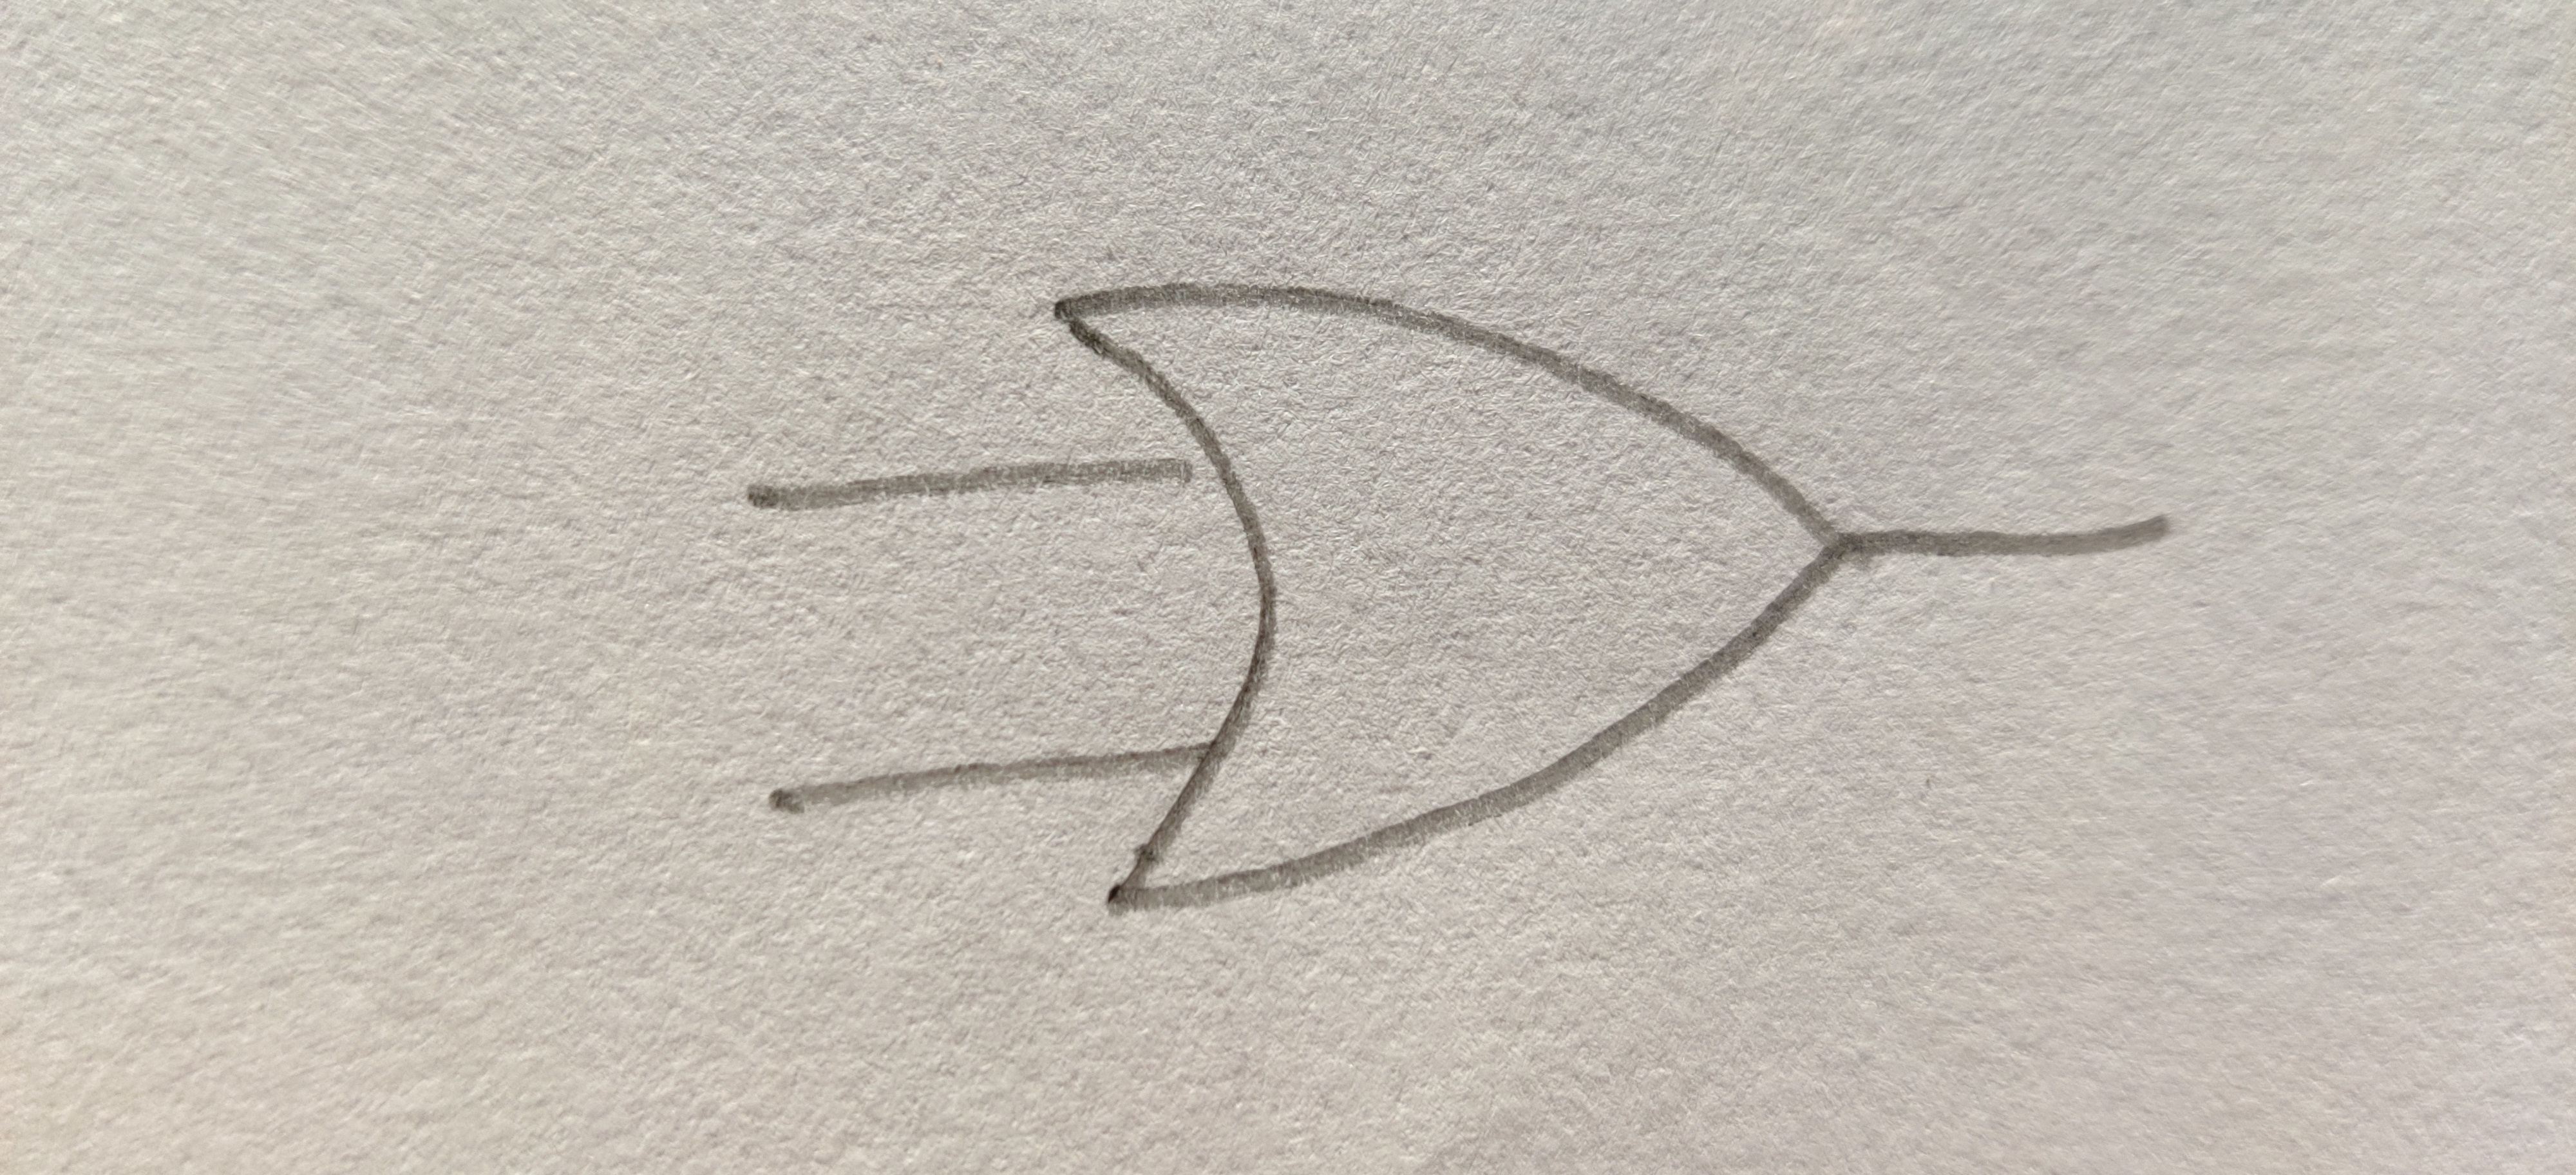or: (1055, 289, 1843, 910)
